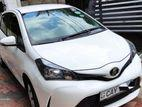car: (0, 4, 142, 107)
